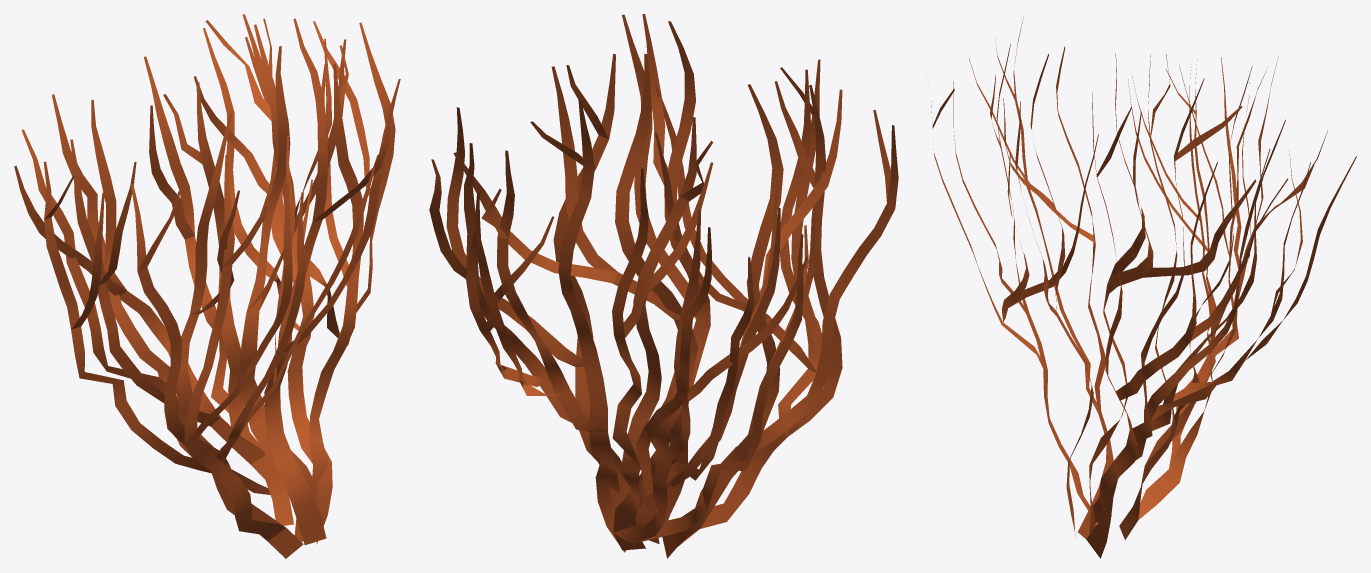
File: coral_seagrass_D_raqam_dense_flat.fbx
3 renders of one model, left to right at view 1: azimuth 30°, elevation 25°; view 2: azimuth 150°, elevation 25°; view 3: azimuth 270°, elevation 25°, orthographic. The views are drawn at different scales.
Visible parts, largest first — view 1: coral_seagrass_D_raqam_dense_flat; view 2: coral_seagrass_D_raqam_dense_flat; view 3: coral_seagrass_D_raqam_dense_flat.
Part boxes in pixels (<box>): coral_seagrass_D_raqam_dense_flat: <box>14,14,400,558</box>; coral_seagrass_D_raqam_dense_flat: <box>429,14,898,558</box>; coral_seagrass_D_raqam_dense_flat: <box>931,17,1356,558</box>.
Bounding box in the file's own units: 97.09 × 128 × 100.
